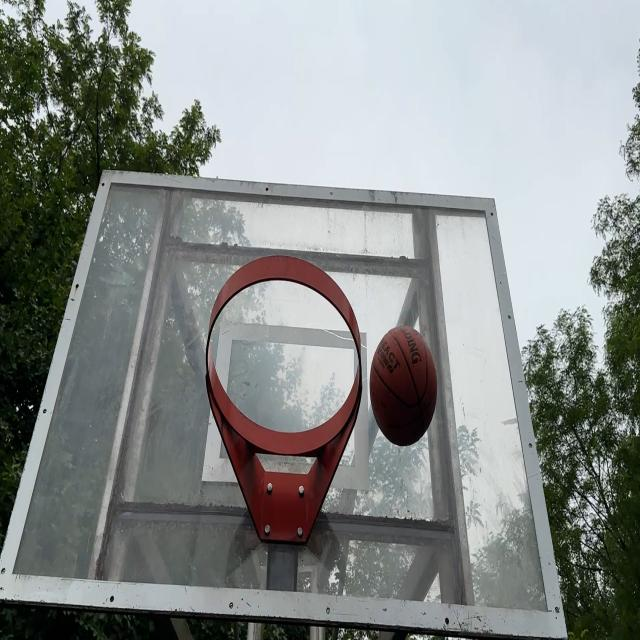rebound_hit: (370, 328, 439, 448)
